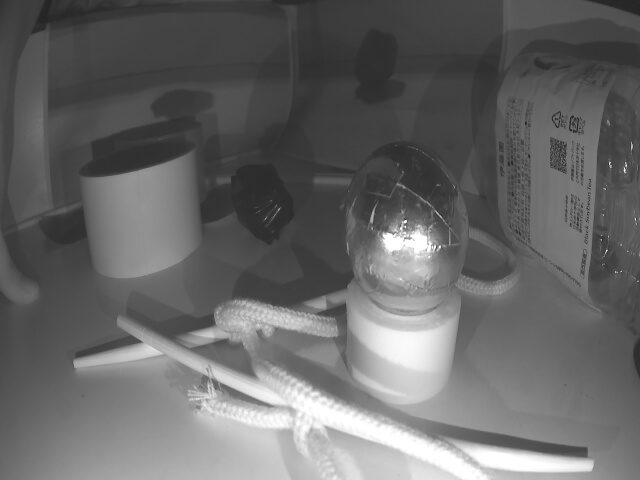Dead: (234, 163, 294, 241)
Live: (345, 143, 468, 311)
